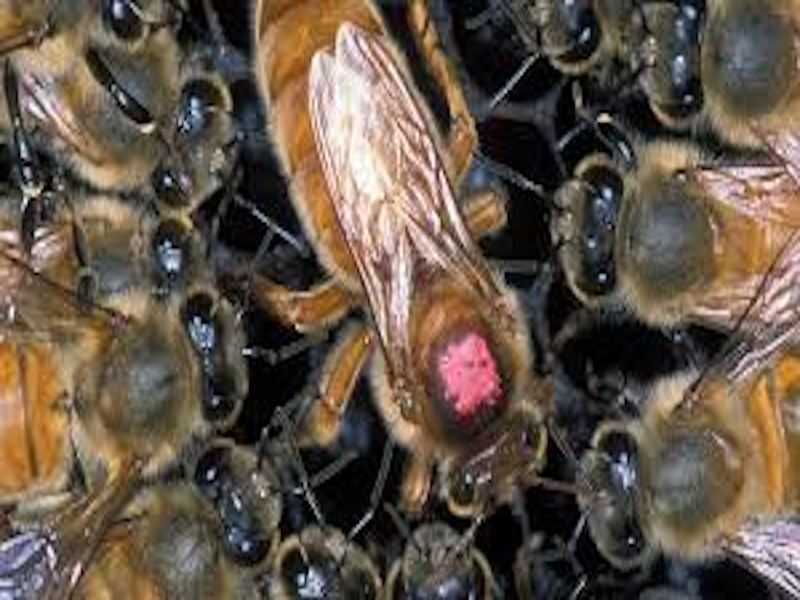abeja: (1, 273, 270, 503), (531, 344, 800, 554), (11, 1, 268, 213), (7, 416, 284, 600), (547, 136, 800, 312)
